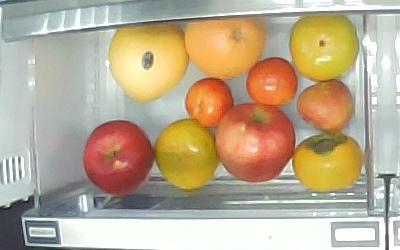apple: (213, 103, 295, 182), (83, 120, 156, 195)
grapefruit: (106, 23, 189, 101), (183, 18, 266, 81)
pear: (288, 13, 358, 80), (155, 119, 219, 190), (292, 134, 362, 192)
prune: (296, 78, 353, 133), (183, 77, 233, 129), (247, 57, 297, 107)
